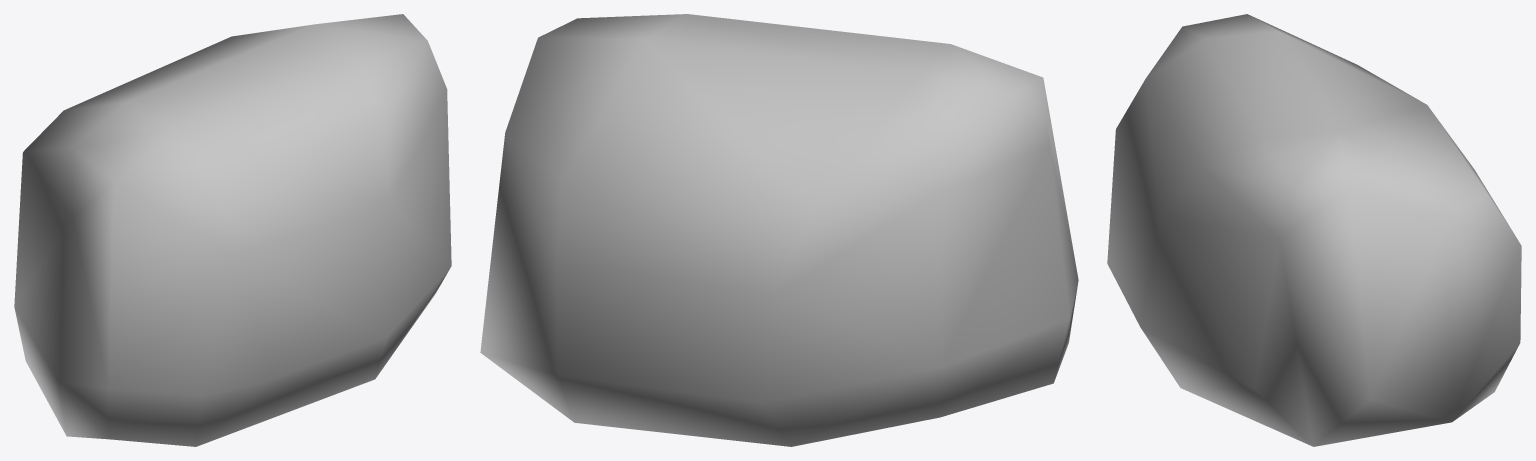
File: Stone4.fbx
The picture shows the model from 3 angles, left to right: view 1: azimuth 30°, elevation 25°; view 2: azimuth 150°, elevation 25°; view 3: azimuth 270°, elevation 25°; orthographic projection. The views are drawn at different scales.
Visible parts, largest first — view 1: Piedra_4; view 2: Piedra_4; view 3: Piedra_4.
Part boxes in pixels (x1=…): Piedra_4: x1=14, y1=14, x2=451, y2=446; Piedra_4: x1=480, y1=14, x2=1078, y2=446; Piedra_4: x1=1107, y1=14, x2=1521, y2=446.
Bounding box in the file's own units: 5.45 × 3.59 × 4.7.
